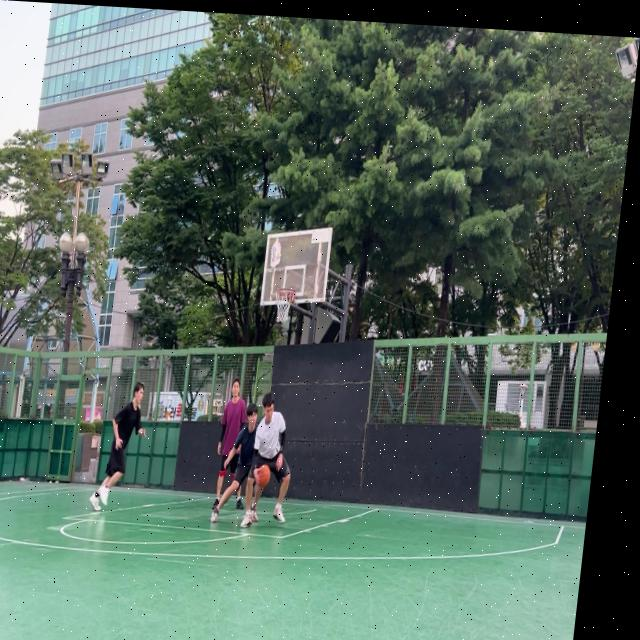basketball: (258, 463, 272, 487)
hoop: (272, 287, 297, 325)
